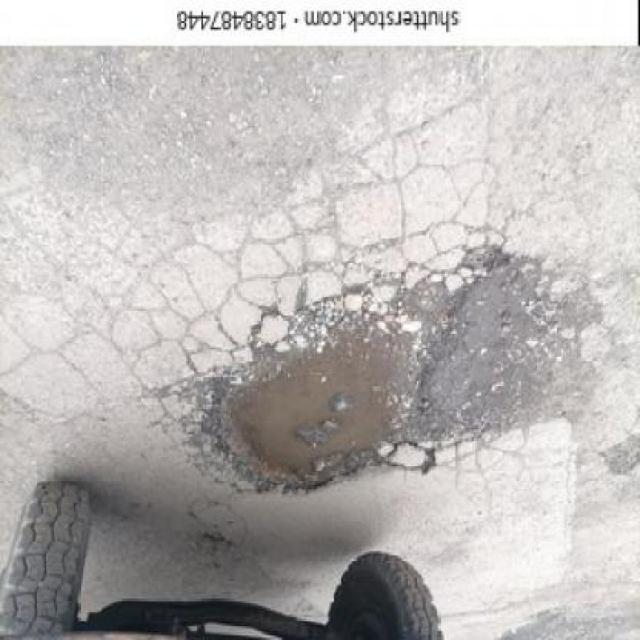Pothole: (193, 287, 440, 502)
